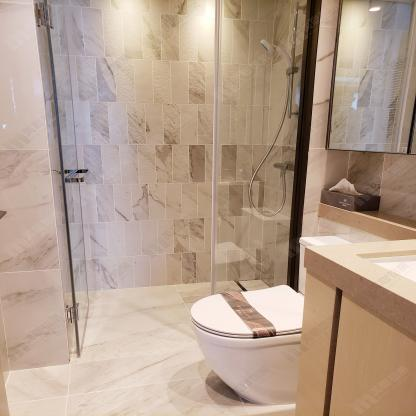Toilet: (189, 236, 354, 405)
